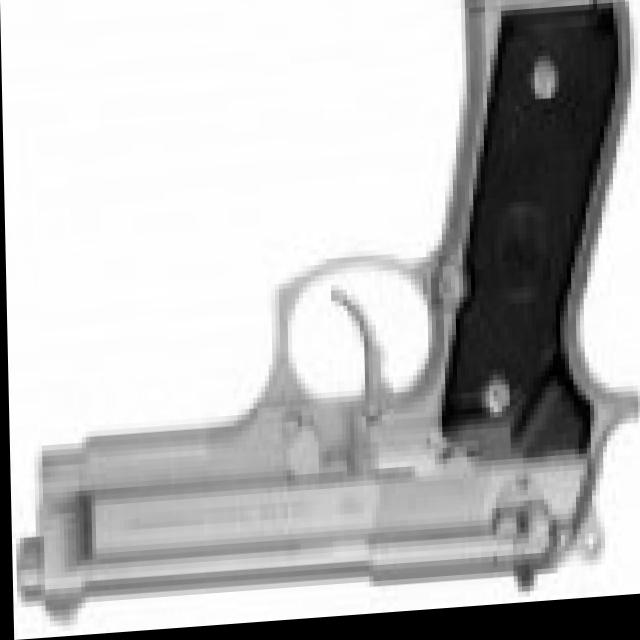handgun: (1, 1, 631, 640)
